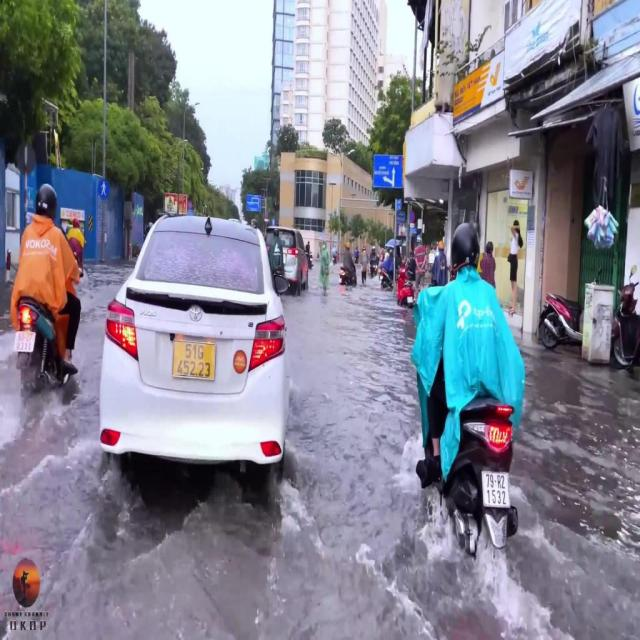cam_do_xe: (409, 211, 414, 224)
duong_cho_nguoi_di_bo: (98, 179, 110, 200)
duong_mot_chieu: (272, 219, 276, 225)
khac: (373, 155, 403, 188), (247, 194, 261, 212)
